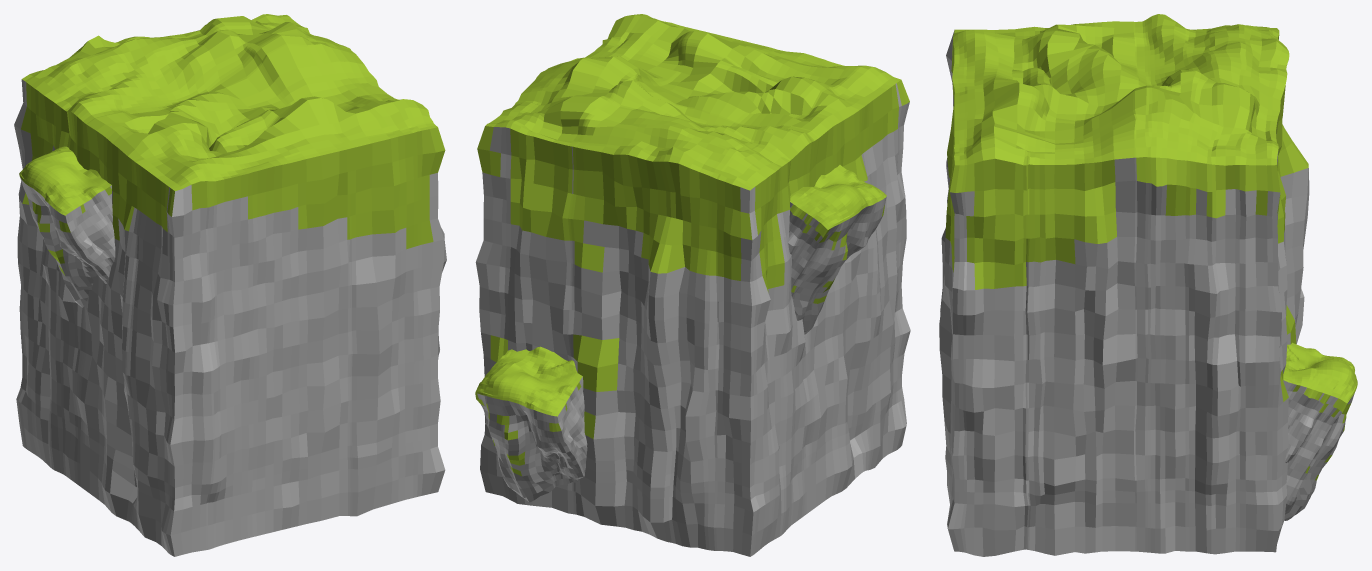
File: 점프타일3.fbx
3 renders of one model, left to right at view 1: azimuth 30°, elevation 25°; view 2: azimuth 150°, elevation 25°; view 3: azimuth 270°, elevation 25°, orthographic. The views are drawn at different scales.
Visible parts, largest first — view 1: 타일3; view 2: 타일3; view 3: 타일3.
Part boxes in pixels (x1,y1,x2,y2): 타일3: (14,14,446,556); 타일3: (475,14,910,556); 타일3: (939,14,1357,556).
Bounding box in the file's own units: 372 × 440 × 383.
